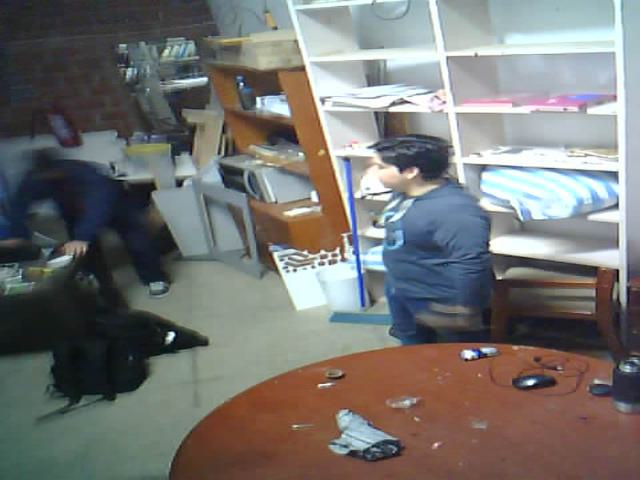person: (351, 118, 514, 383), (5, 116, 190, 316)
